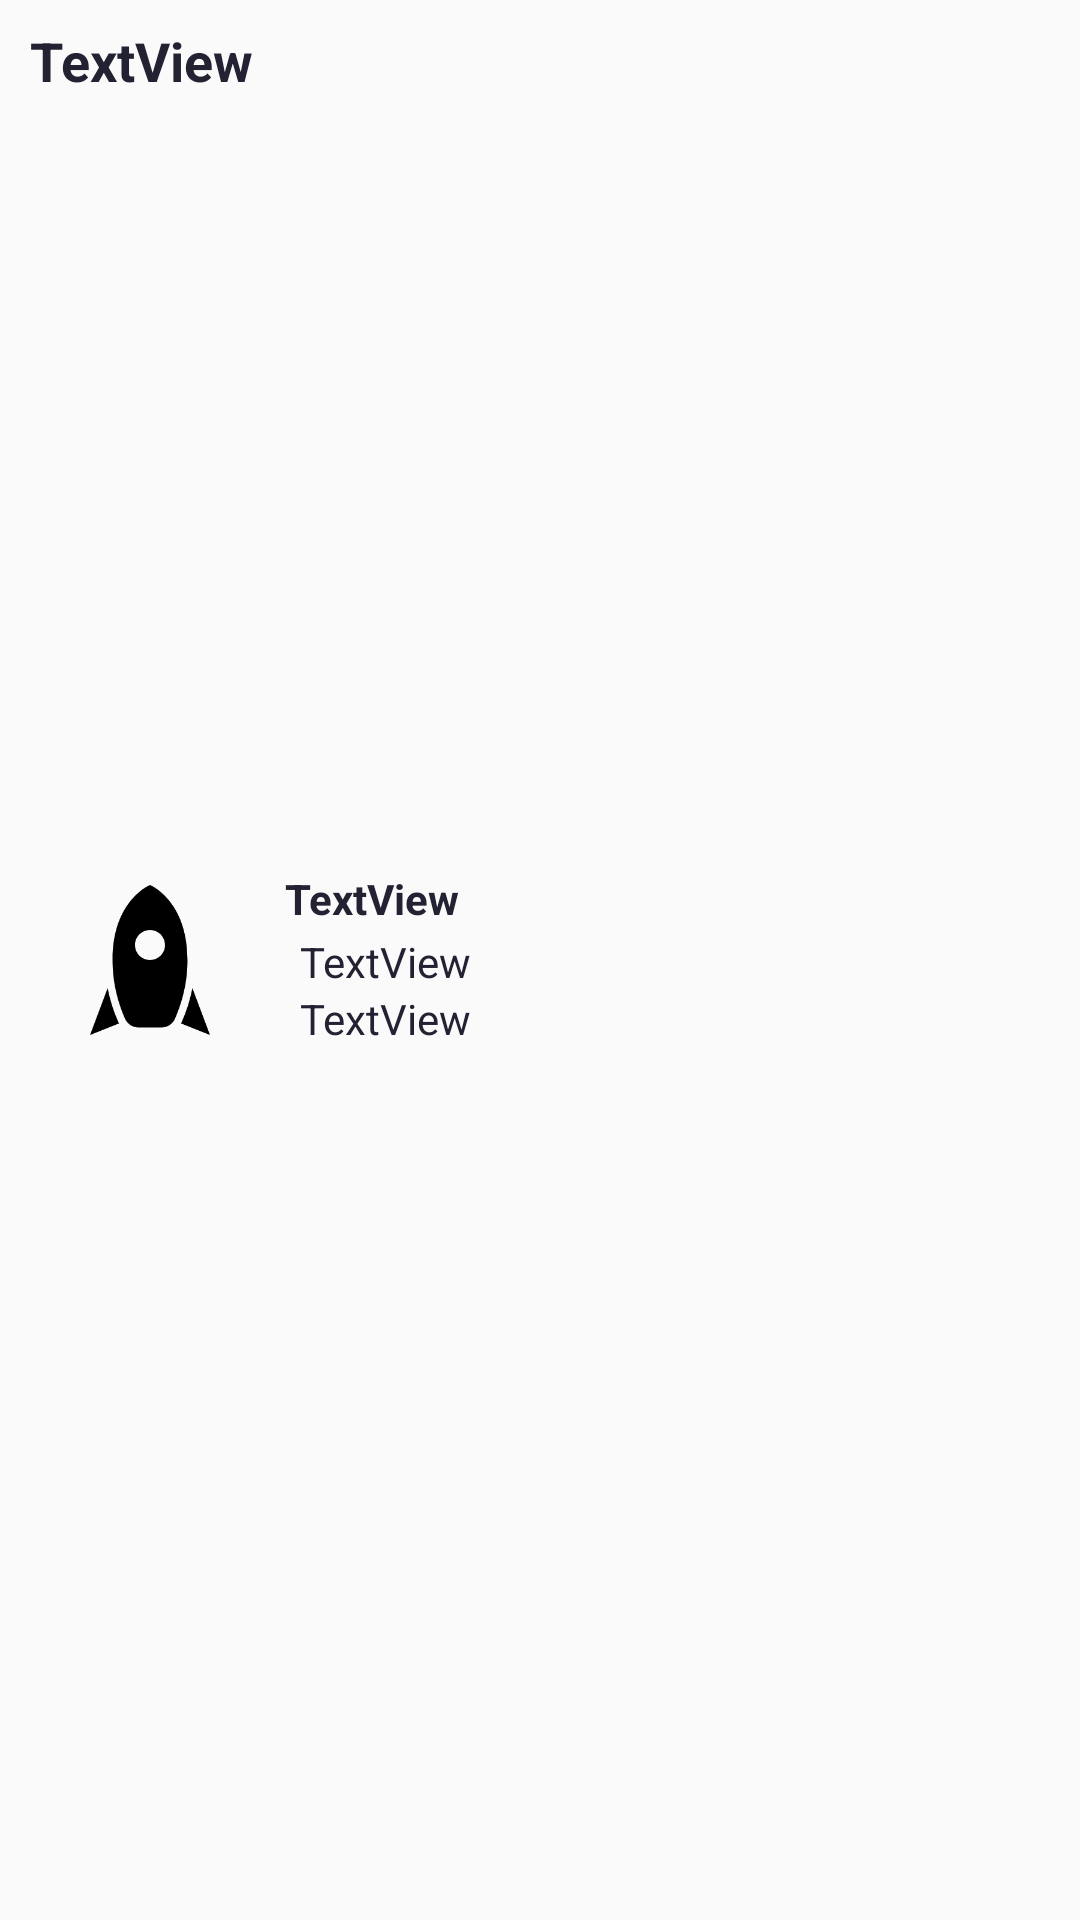

Where to tap for icons on this 1080px×1920px app screen, as point (x, y):
rocket: point (150, 960)
